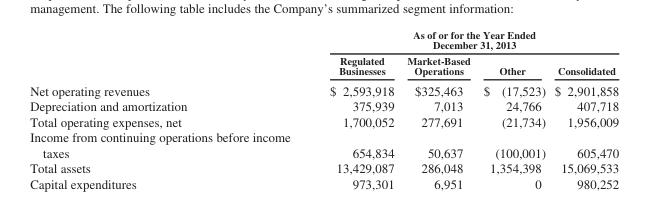table: (29, 28, 618, 190)
table column: (29, 28, 309, 190), (309, 28, 400, 190), (400, 28, 476, 190), (476, 28, 549, 190), (549, 28, 618, 190)
table column header: (29, 28, 618, 79)
table row: (29, 129, 618, 160), (29, 52, 618, 79), (29, 28, 618, 52), (29, 79, 618, 98), (29, 113, 618, 129), (29, 98, 618, 113), (29, 160, 618, 175), (29, 175, 618, 190)
table spanning cell: (309, 28, 618, 52)
